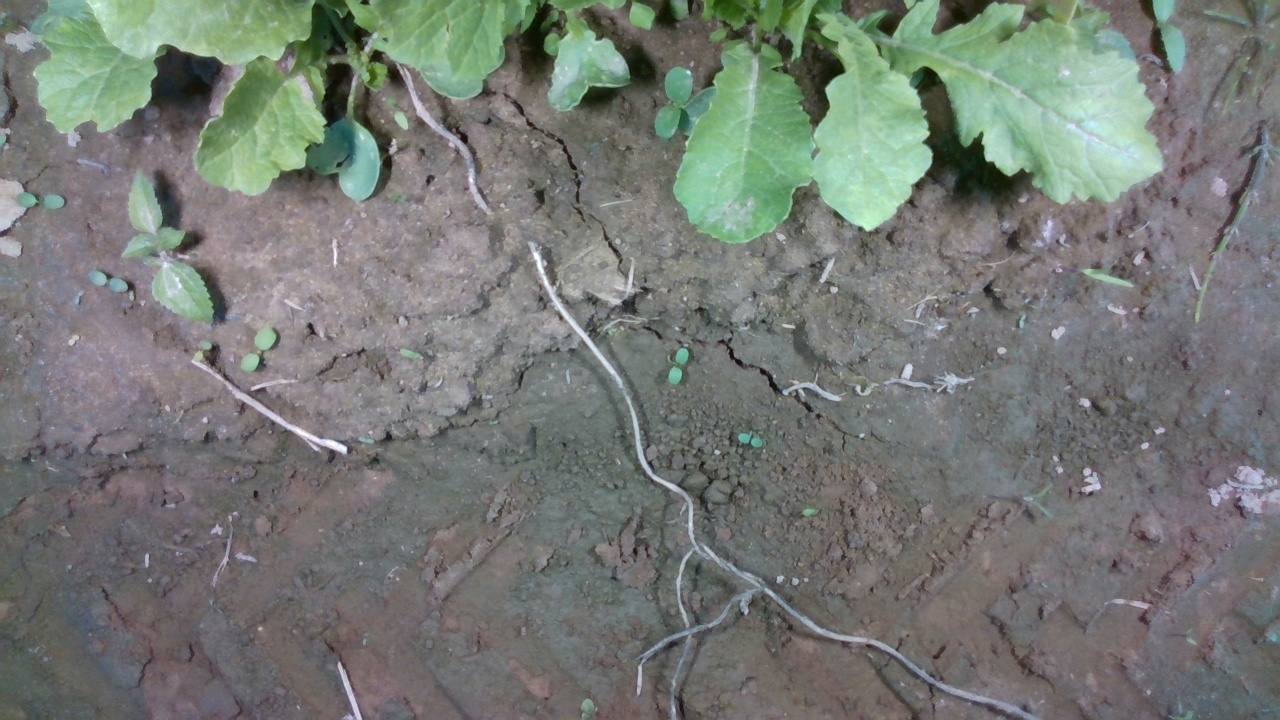weed: (12, 190, 67, 211), (666, 346, 691, 387), (72, 286, 84, 308)
